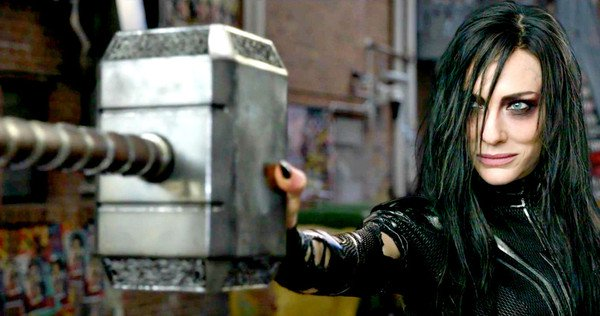THOR Hammer: (20, 11, 305, 285), (159, 111, 223, 163), (250, 45, 262, 81)
